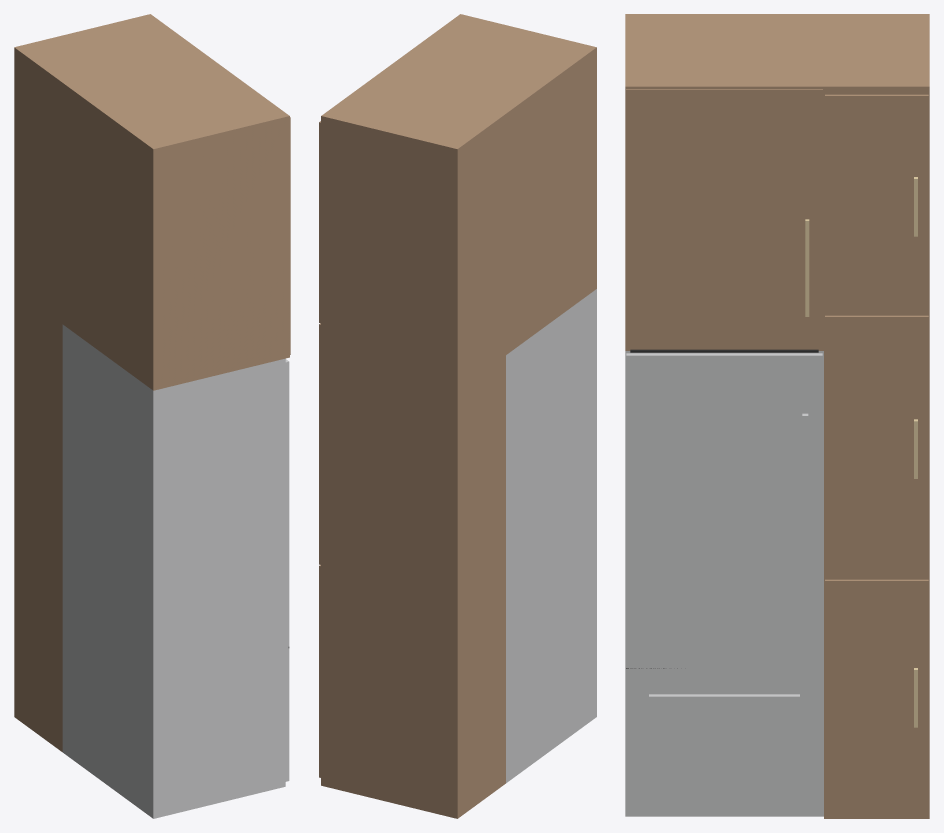
File: SM_Kitchen_TallUnit.fbx
3 renders of one model, left to right at view 1: azimuth 30°, elevation 25°; view 2: azimuth 150°, elevation 25°; view 3: azimuth 270°, elevation 25°, orthographic. The views are drawn at different scales.
Visible parts, largest first — view 1: SM_Kitchen_TallUnit; view 2: SM_Kitchen_TallUnit; view 3: SM_Kitchen_TallUnit.
Boxes of the visible parts, x1,y1,x2,y2 form: SM_Kitchen_TallUnit: (14,14,290,818); SM_Kitchen_TallUnit: (319,14,596,818); SM_Kitchen_TallUnit: (625,14,929,818).
Bounding box in the file's own units: 69.6 × 305 × 115.
